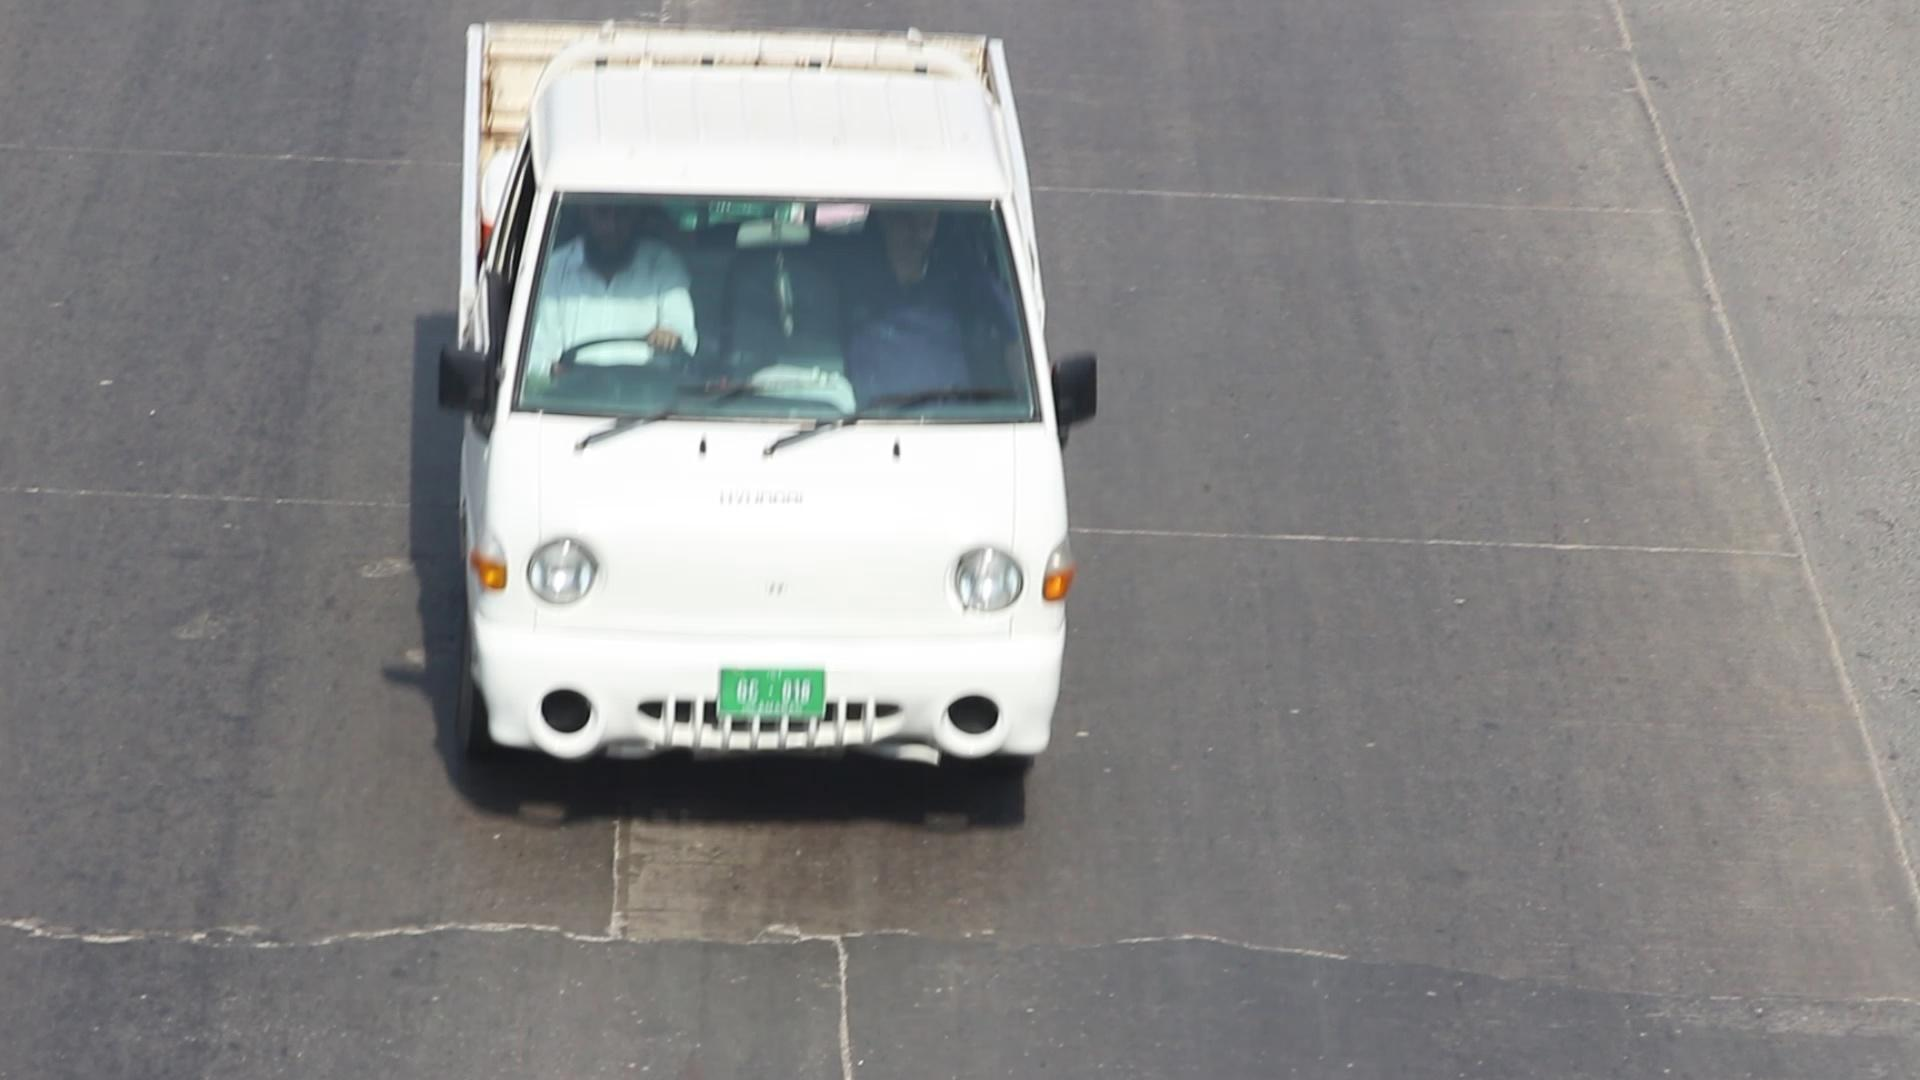windshield: (501, 170, 1054, 430)
